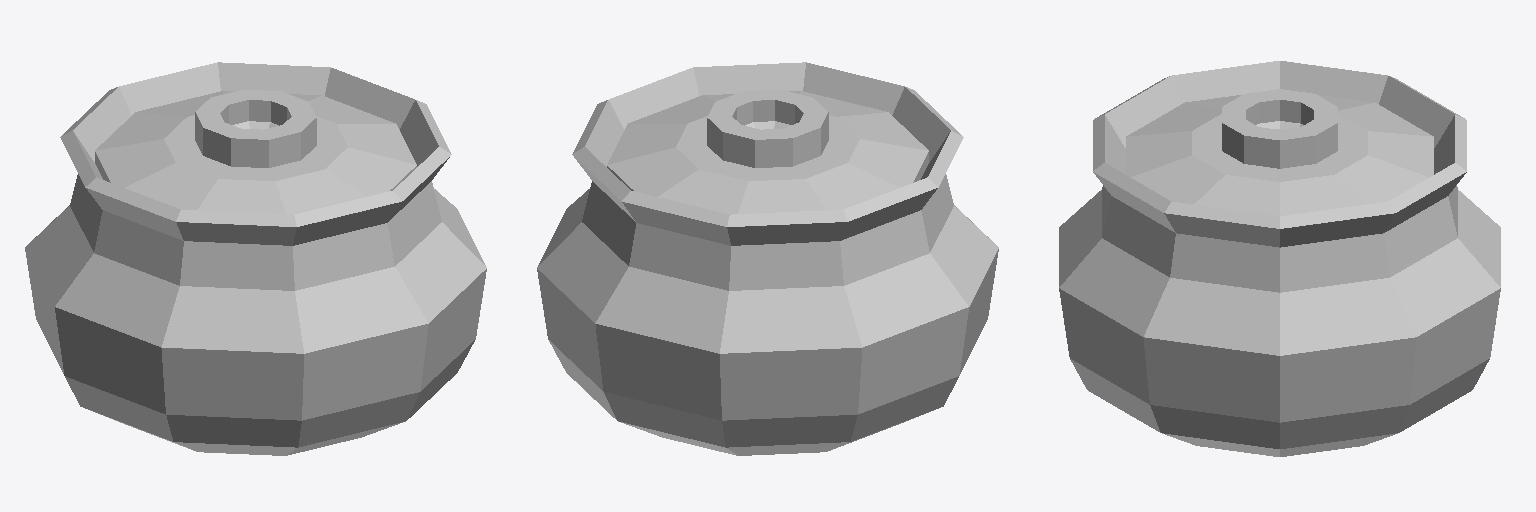
File: pan_ceramic_pot_large.obj
3 views of the same model, side by side, from view 1: azimuth 30°, elevation 25°; view 2: azimuth 150°, elevation 25°; view 3: azimuth 270°, elevation 25° (orthographic).
Visible parts, largest first — view 1: pan_ceramic_pot_large_Cylinder.050, pan_ceramic_pot_large_lid_Cylinder.053; view 2: pan_ceramic_pot_large_Cylinder.050, pan_ceramic_pot_large_lid_Cylinder.053; view 3: pan_ceramic_pot_large_Cylinder.050, pan_ceramic_pot_large_lid_Cylinder.053.
Part boxes in pixels (x1,y1,x2,y2): pan_ceramic_pot_large_Cylinder.050: (25,62,486,455); pan_ceramic_pot_large_lid_Cylinder.053: (95,90,416,214); pan_ceramic_pot_large_Cylinder.050: (537,62,998,455); pan_ceramic_pot_large_lid_Cylinder.053: (607,90,928,214); pan_ceramic_pot_large_Cylinder.050: (1059,61,1500,456); pan_ceramic_pot_large_lid_Cylinder.053: (1126,89,1433,215).
Size of the model in its own units: 5.34 by 3.58 by 5.07.